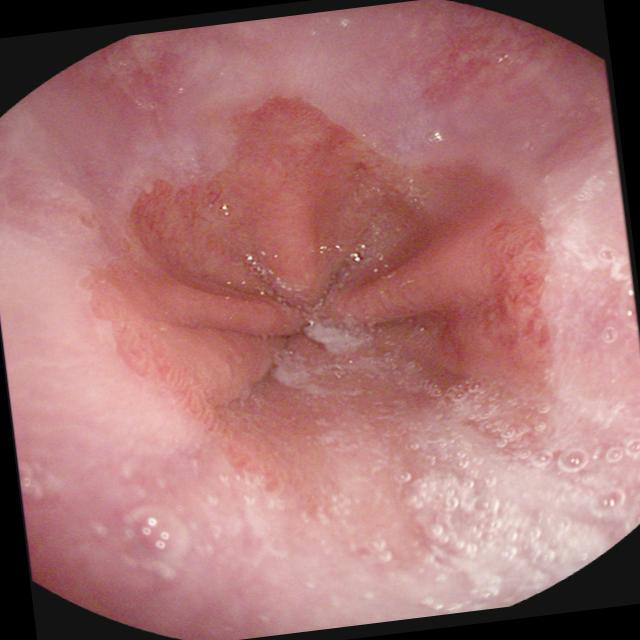Normal-Z-Line: (59, 74, 580, 601)
